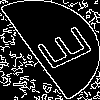E: (25, 25, 95, 77)
